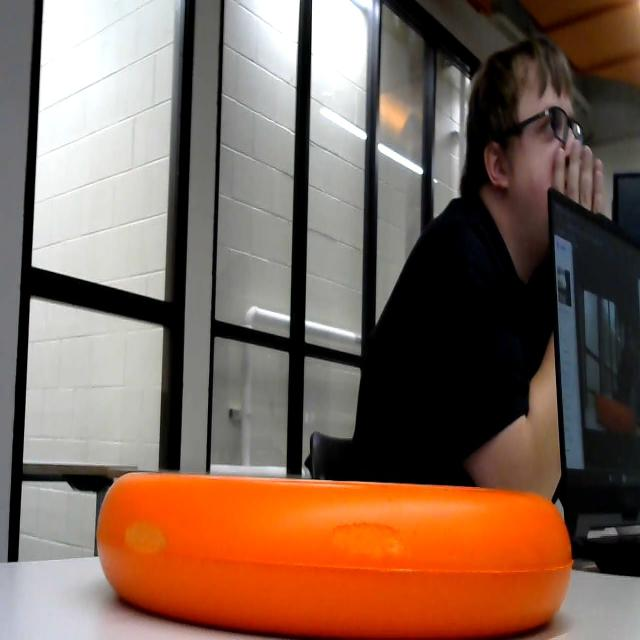note: (97, 462, 576, 640)
